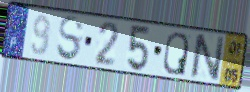2: (95, 20, 121, 69)
5: (125, 24, 151, 73)
9: (30, 13, 54, 58)
N: (189, 32, 227, 83)
Q: (161, 31, 190, 78)
S: (55, 15, 86, 64)
